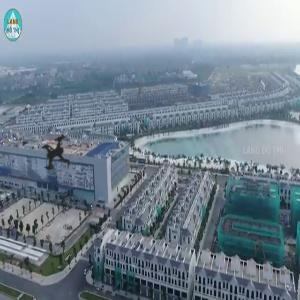drone: (6, 101, 114, 209)
